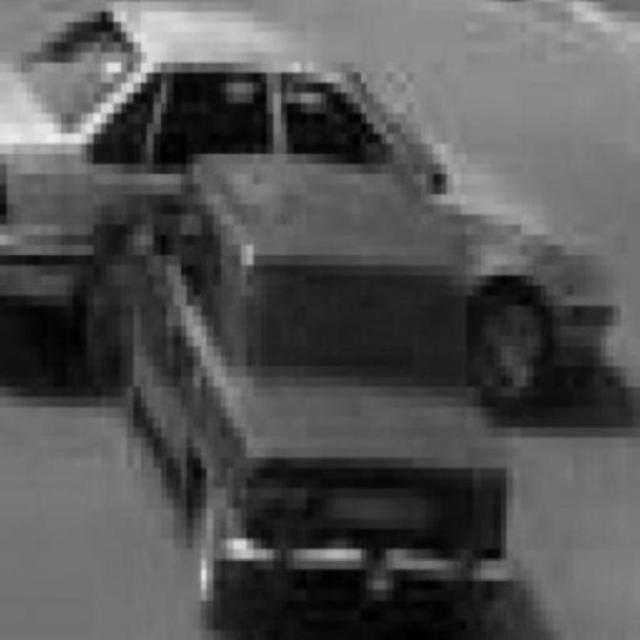accident: (5, 9, 619, 605)
